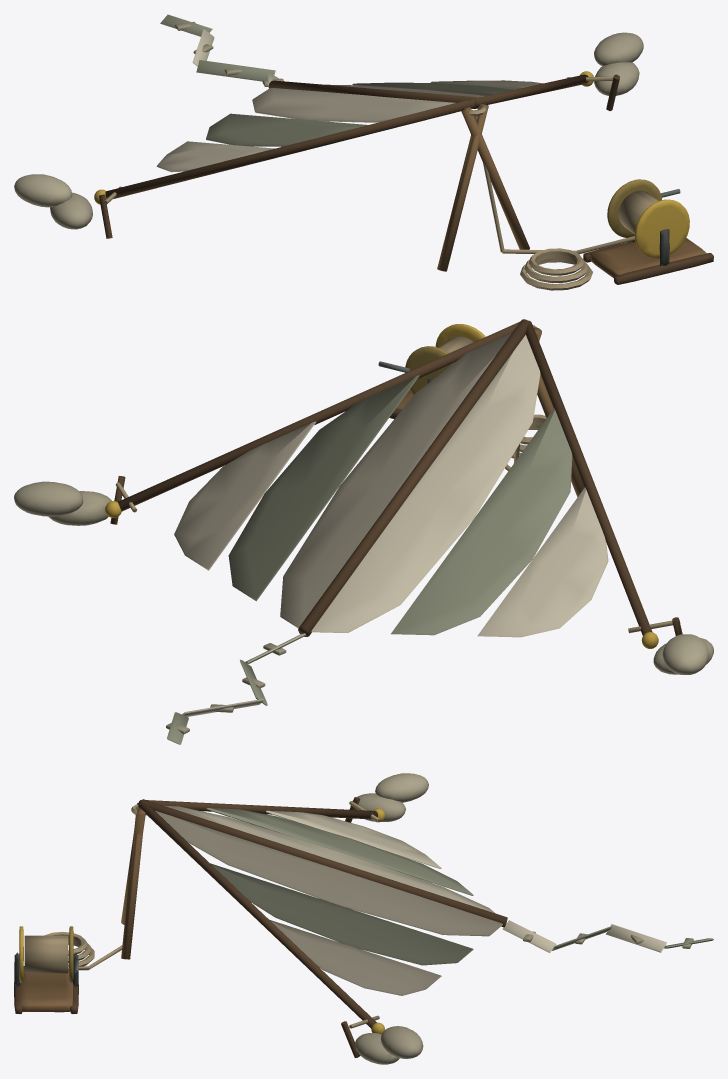
Rendered from moored_kite_a_lod1.glb.
3 renders of one model, top to bottom at view 1: azimuth 30°, elevation 25°; view 2: azimuth 150°, elevation 25°; view 3: azimuth 270°, elevation 25°, orthographic. The views are drawn at different scales.
Parts seen in each view (by area): view 1: Surface.001; view 2: Surface.001; view 3: Surface.001.
Boxes of the visible parts, x1,y1,x2,y2 form: Surface.001: (14,14,713,290); Surface.001: (14,319,713,744); Surface.001: (14,773,713,1064).
Size of the model in its own units: 8.22 by 2.03 by 8.84.
